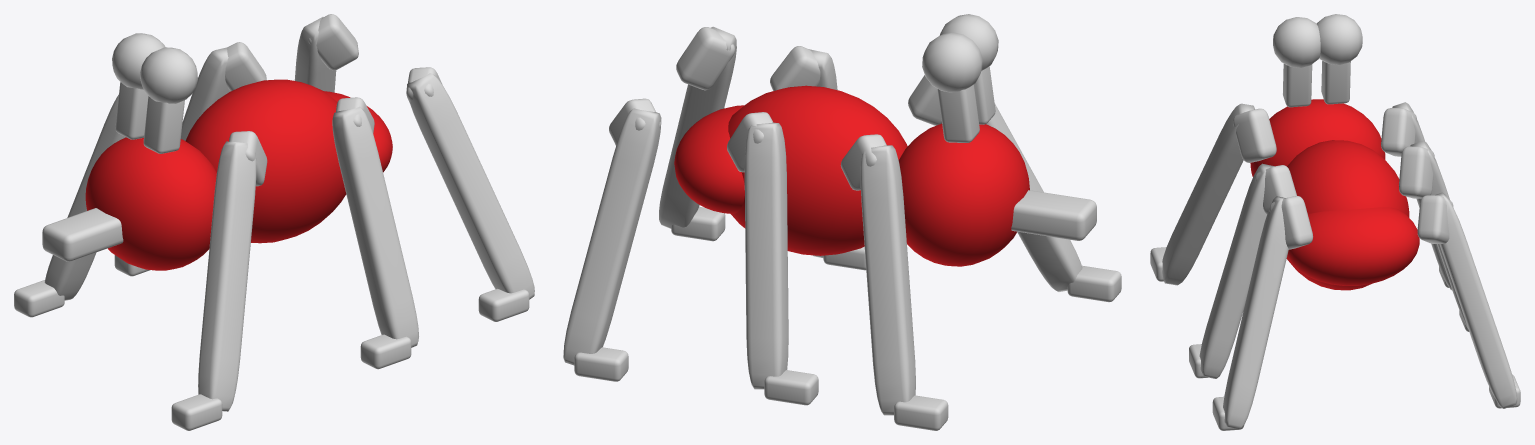
3 renders of one model, left to right at view 1: azimuth 30°, elevation 25°; view 2: azimuth 150°, elevation 25°; view 3: azimuth 270°, elevation 25°, orthographic. The views are drawn at different scales.
Visible parts, largest first — view 1: thorax, head, leg_l1, leg_l2, leg_l3, jaw, leg_r1, knob, leg_r2, antenna, leg_r3, knob_b (+11 smaller); view 2: thorax, head, leg_r1, leg_r2, leg_r3, abdomen, leg_l3, jaw, leg_l1, knob_b, hip_l3, antenna_b (+14 smaller); view 3: abdomen, thorax, leg_l3, leg_l2, leg_l1, leg_r3, head, knob, knob_b, hip_l1, hip_r2, hip_r1 (+10 smaller).
Part boxes in pixels (box(x1,y1,x2,y2)): thorax: box(185, 79, 346, 243); head: box(85, 137, 216, 270); leg_l1: box(198, 141, 256, 411); leg_l2: box(332, 106, 418, 347); leg_l3: box(406, 73, 534, 299); jaw: box(42, 208, 123, 261); leg_r1: box(44, 94, 125, 300); knob: box(140, 47, 197, 103); leg_r2: box(181, 47, 230, 140); antenna: box(143, 96, 184, 153); leg_r3: box(294, 17, 336, 92); knob_b: box(112, 33, 165, 89); thorax: box(728, 85, 907, 255); head: box(898, 123, 1029, 266); leg_r1: box(860, 145, 915, 415); leg_r2: box(744, 122, 788, 389); leg_r3: box(563, 108, 661, 365); abdomen: box(674, 105, 744, 213); leg_l3: box(659, 26, 736, 228); jaw: box(1011, 190, 1096, 240); leg_l1: box(986, 103, 1082, 291); knob_b: box(922, 32, 982, 92); hip_l3: box(676, 27, 734, 90); antenna_b: box(937, 84, 979, 142); abdomen: box(1287, 207, 1419, 285); thorax: box(1286, 140, 1409, 290); leg_l3: box(1223, 196, 1288, 429); leg_l2: box(1199, 163, 1273, 378); leg_l1: box(1162, 103, 1254, 285); leg_r3: box(1435, 192, 1517, 408); head: box(1250, 99, 1385, 176); knob: box(1273, 17, 1320, 67); knob_b: box(1316, 14, 1362, 64); hip_l1: box(1233, 108, 1276, 162); hip_r2: box(1399, 146, 1434, 198); hip_r1: box(1381, 108, 1416, 156).
Size of the model in its own units: 1.41 by 0.9462 by 1.13.
